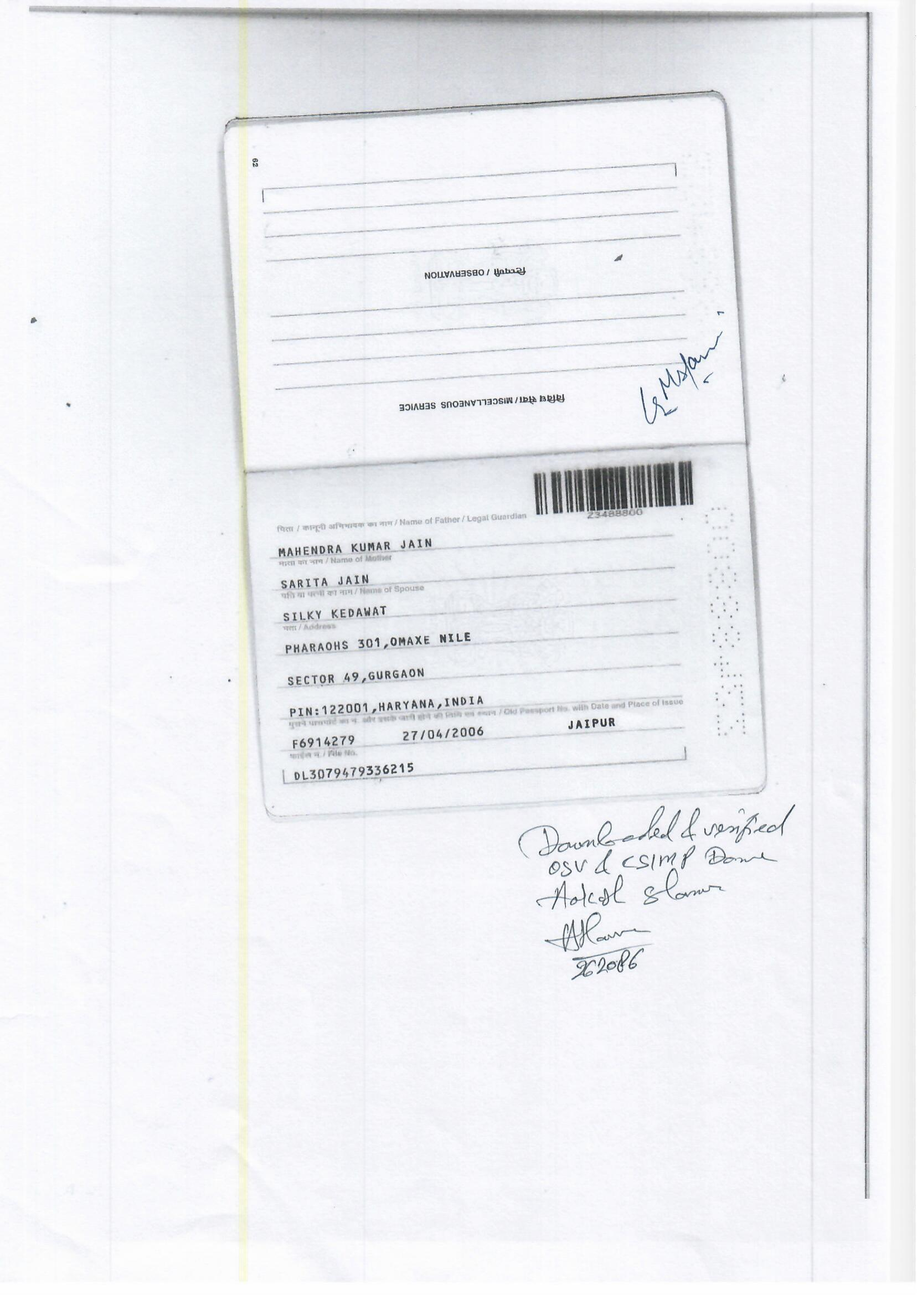File_no: (291, 760, 426, 783)
address: (275, 630, 501, 718)
father_name: (264, 527, 446, 559)
mother_name: (278, 570, 380, 593)
old_passport_details: (281, 709, 668, 758)
passport_no: (579, 505, 658, 526)
spouse_name: (276, 602, 403, 623)
